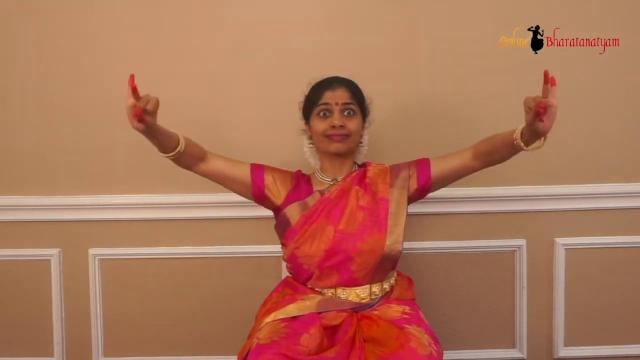bhramara: (502, 70, 572, 156), (113, 70, 167, 148)
